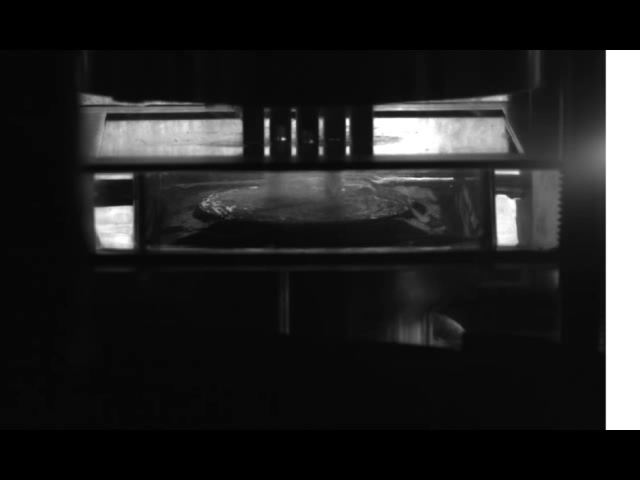Zona de teste: (203, 174, 410, 225)
